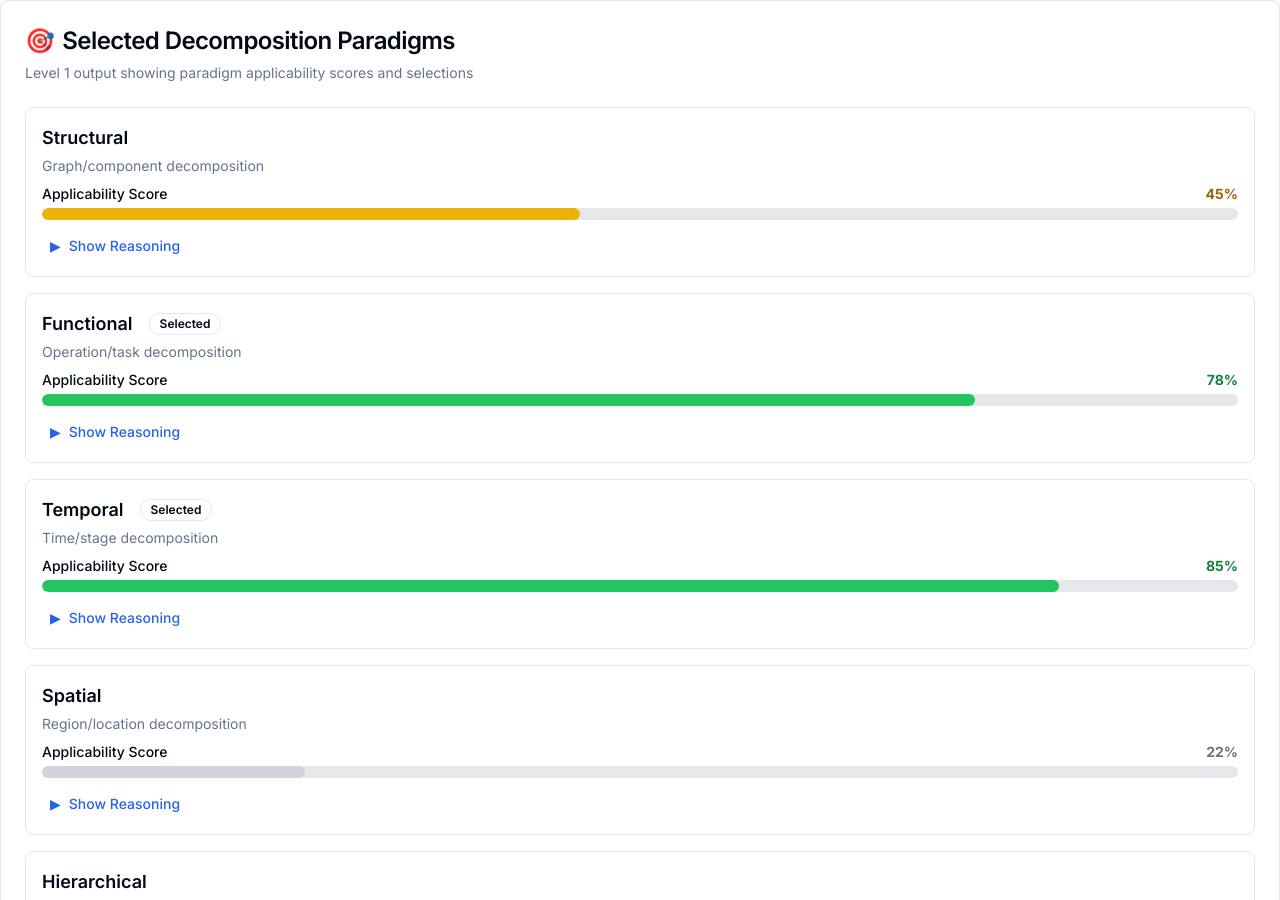
Test: ParadigmSelectionViz › Reasoning Display › toggles only one reasoning section at a time
// Click first button
Click the button "▶ Show Reasoning" below "Graph/component decomposition" at [115, 246], box [42, 232, 188, 260]
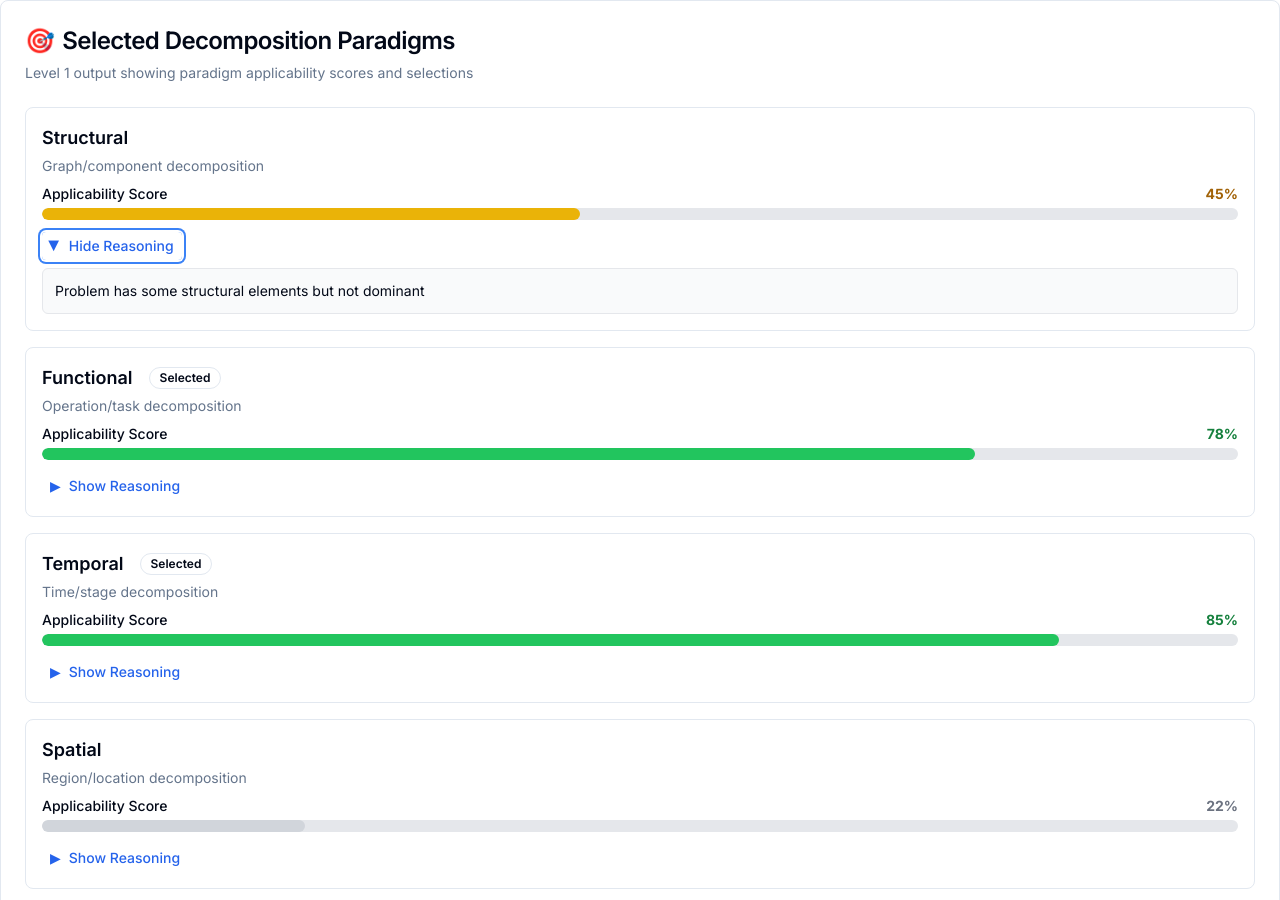
Result: the text "Problem has some structural elements but not dominant" is shown at [42, 268, 1238, 314]
// Click second button
Click the button "▶ Show Reasoning" below "Operation/task decomposition" at [115, 486], box [42, 472, 188, 500]
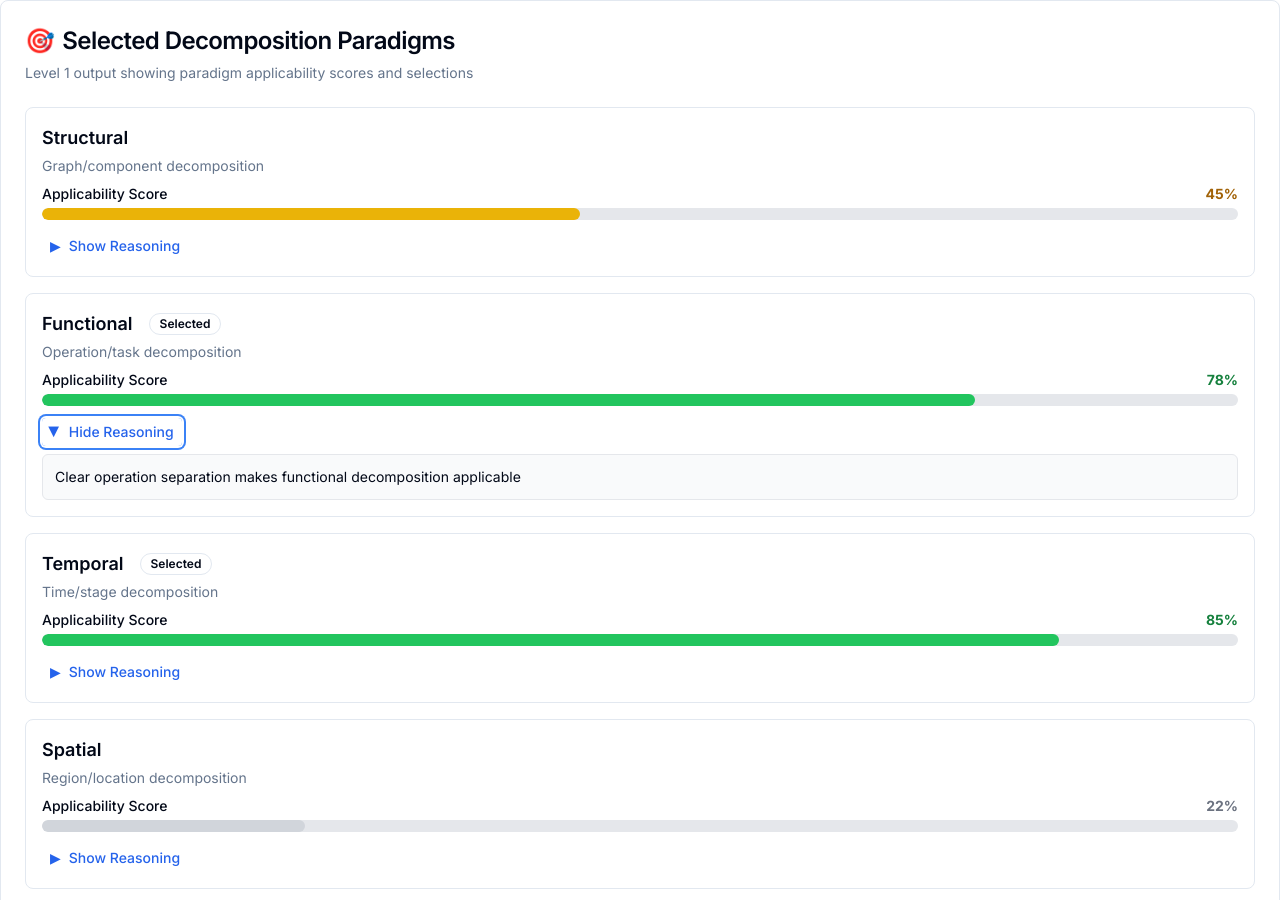
Result: the text "Problem has some structural elements" is gone
Result: the text "Clear operation separation" is shown at [55, 468, 521, 485]
